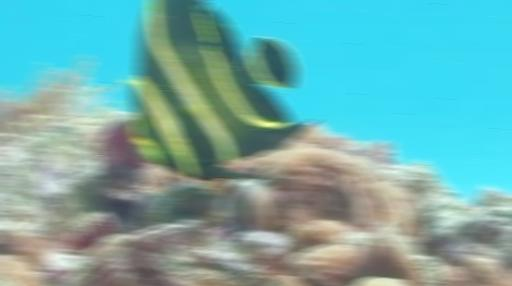Fish: (132, 0, 317, 179)
